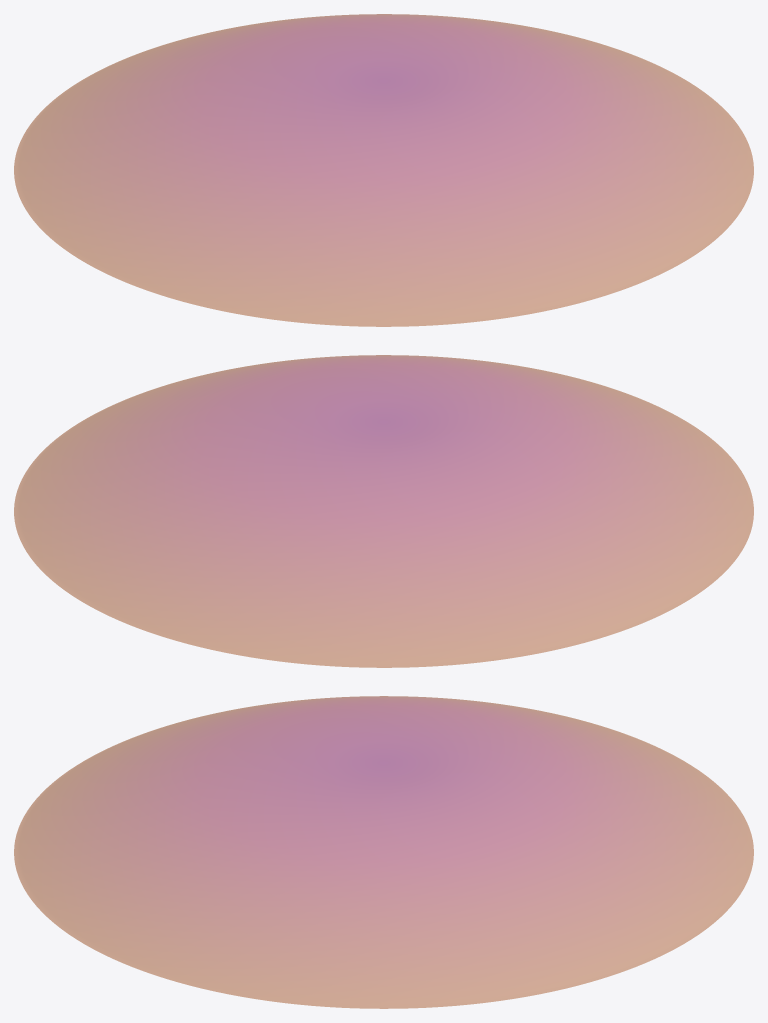
The model's file is piso_bordes_abajo.glb.
The picture shows the model from 3 angles, top to bottom: view 1: azimuth 30°, elevation 25°; view 2: azimuth 150°, elevation 25°; view 3: azimuth 270°, elevation 25°; orthographic projection.
Parts seen in each view (by area): view 1: piso_curvo; view 2: piso_curvo; view 3: piso_curvo.
Part boxes in pixels (left/top/right/bottom): piso_curvo: left=14, top=14, right=753, bottom=326; piso_curvo: left=14, top=355, right=753, bottom=667; piso_curvo: left=14, top=696, right=753, bottom=1008.
Size of the model in its own units: 120 by 16 by 120.
